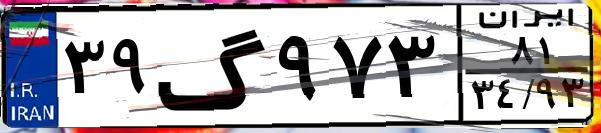1: (537, 27, 568, 80)
3: (385, 28, 445, 110), (57, 26, 110, 100), (560, 70, 590, 125), (470, 70, 495, 125)
4: (495, 70, 520, 125)
7: (330, 28, 385, 110)
8: (508, 27, 537, 80)
9: (270, 28, 330, 110), (110, 28, 156, 98), (535, 70, 560, 125)
گ: (156, 12, 270, 120)
